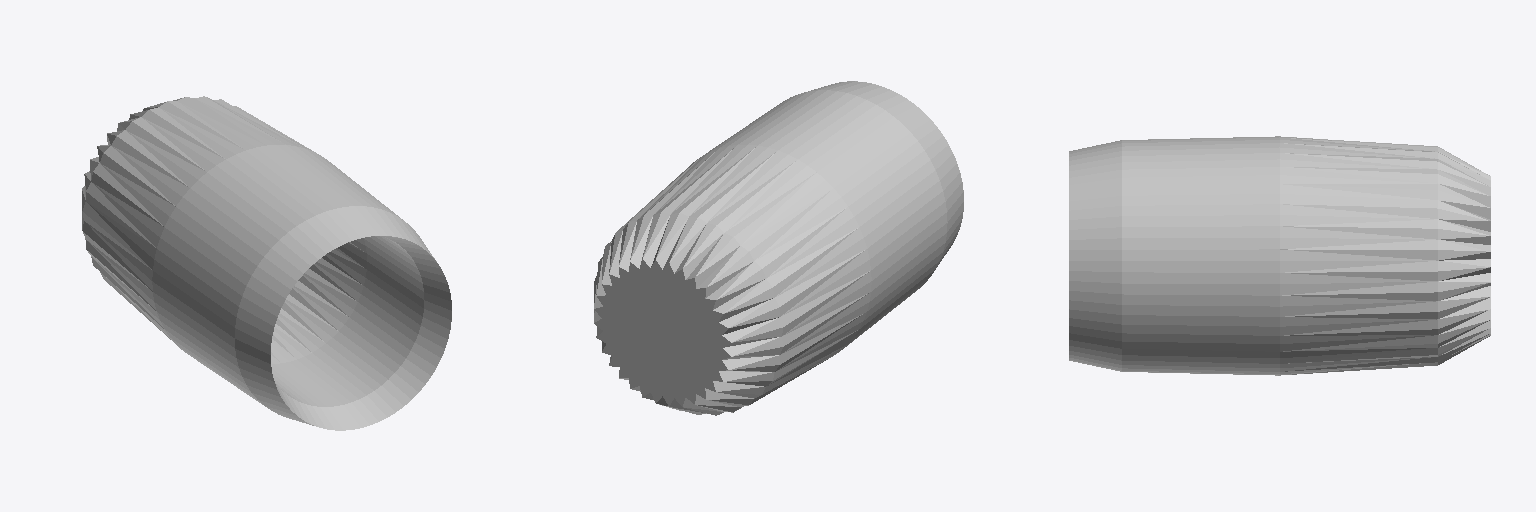
Rendered from cannon2.obj.
3 renders of one model, left to right at view 1: azimuth 30°, elevation 25°; view 2: azimuth 150°, elevation 25°; view 3: azimuth 270°, elevation 25°, orthographic.
Parts seen in each view (by area): view 1: Cylinder.002_Mesh; view 2: Cylinder.002_Mesh; view 3: Cylinder.002_Mesh.
Boxes of the visible parts, x1=… form: Cylinder.002_Mesh: x1=82, y1=96, x2=451, y2=430; Cylinder.002_Mesh: x1=594, y1=81, x2=963, y2=415; Cylinder.002_Mesh: x1=1069, y1=136, x2=1490, y2=375.
Size of the model in its own units: 1.12 by 1.12 by 1.97.